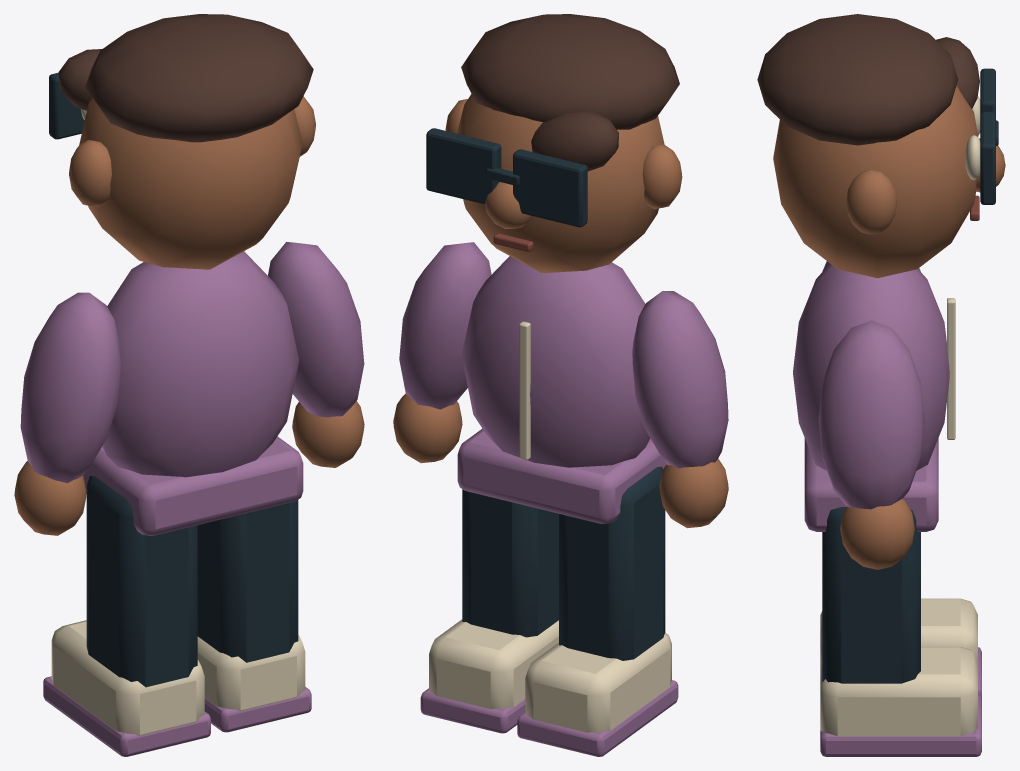
The model's file is person_3.glb.
3 views of the same model, side by side, from view 1: azimuth 30°, elevation 25°; view 2: azimuth 150°, elevation 25°; view 3: azimuth 270°, elevation 25° (orthographic). The views are drawn at different scales.
Visible parts, largest first — view 1: person_3.001; view 2: person_3.001; view 3: person_3.001.
Part boxes in pixels (<box>): person_3.001: <box>14,14,364,756</box>; person_3.001: <box>393,14,728,756</box>; person_3.001: <box>757,14,1005,756</box>.
Size of the model in its own units: 0.98 by 1.9 by 0.63.
